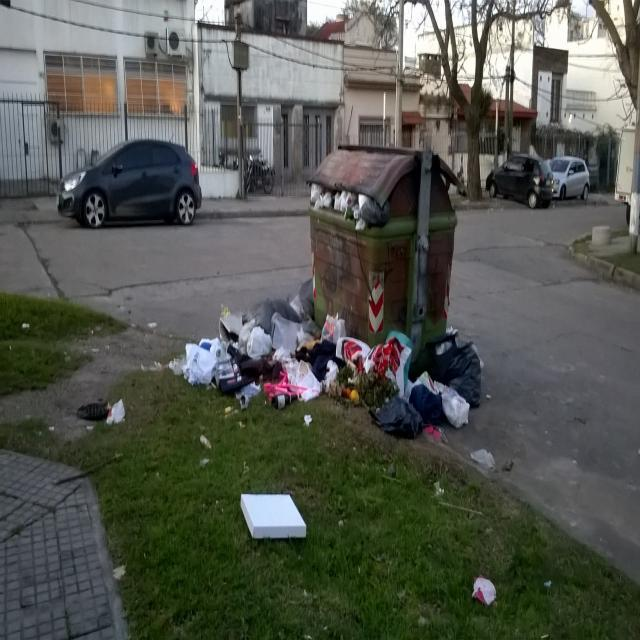garbage: (194, 300, 357, 408), (356, 334, 471, 426), (241, 488, 304, 550), (314, 180, 382, 222), (465, 580, 497, 604)
